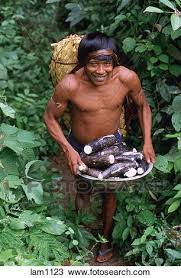Indian_Male: (86, 47, 118, 87)
